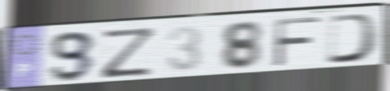3: (165, 24, 206, 74)
8: (220, 19, 265, 71)
9: (47, 30, 99, 83)
D: (325, 11, 382, 66)
F: (271, 15, 324, 69)
Z: (100, 25, 160, 80)
